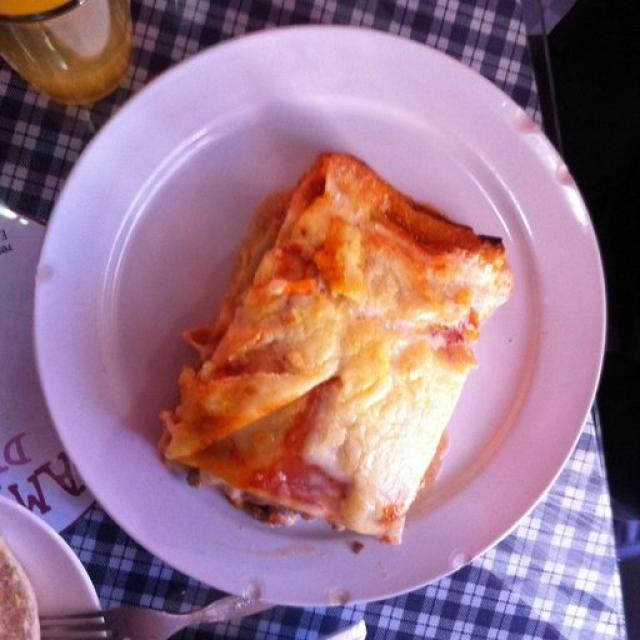Lasagna: (161, 167, 519, 548)
